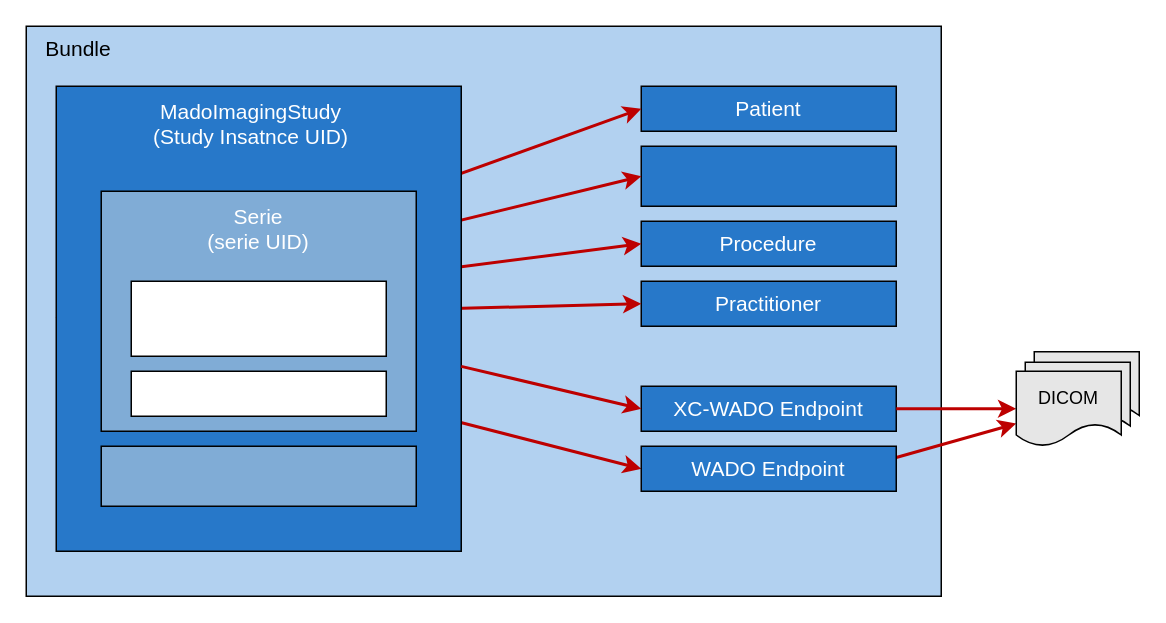
This 1166x623 diagram has some shape labels left out. The centre of each missing label's shape, as x and y in pixels:
"Instance" goes at point (258, 393).
"Instance (SOP Class Instance UID)" goes at point (258, 318).
"Serie" goes at point (258, 475).
"ServiceRequest (AccessionNumber)" goes at point (768, 175).
